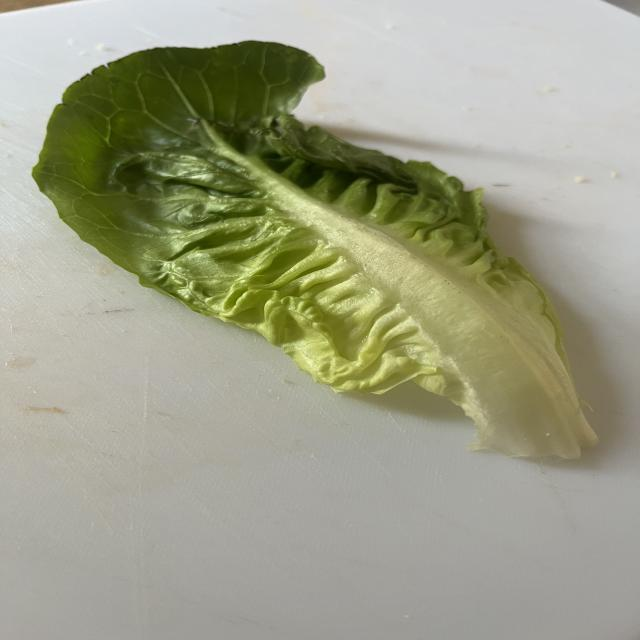lettuce: (33, 41, 597, 459)
